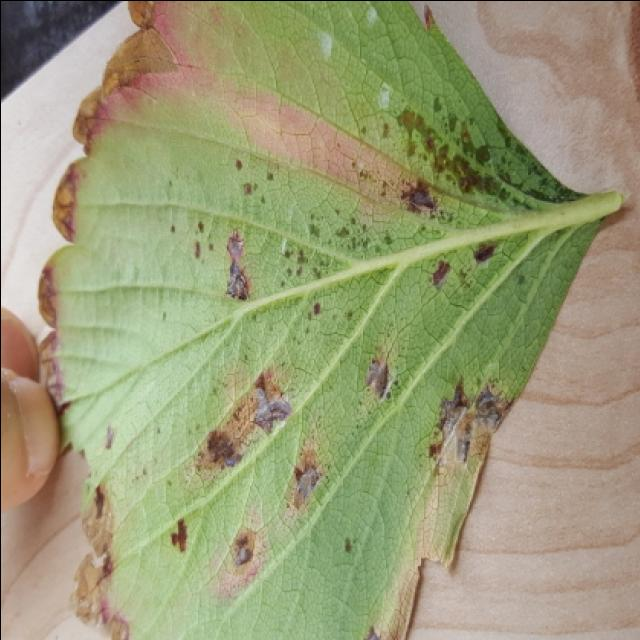Angular Leafspot: (35, 2, 591, 640)
